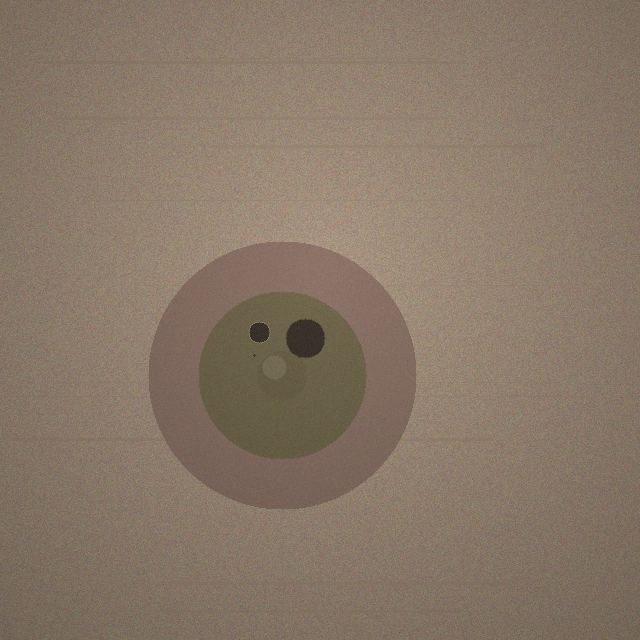shrinkage: (148, 241, 416, 509)
